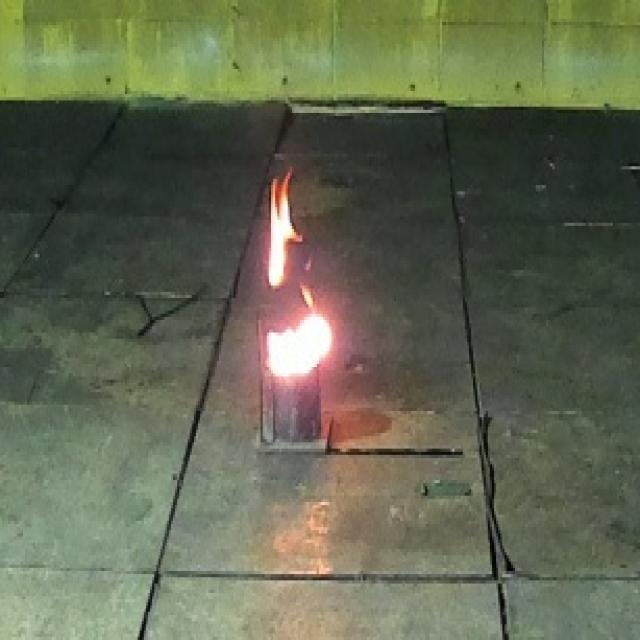Fire: (264, 168, 334, 380)
